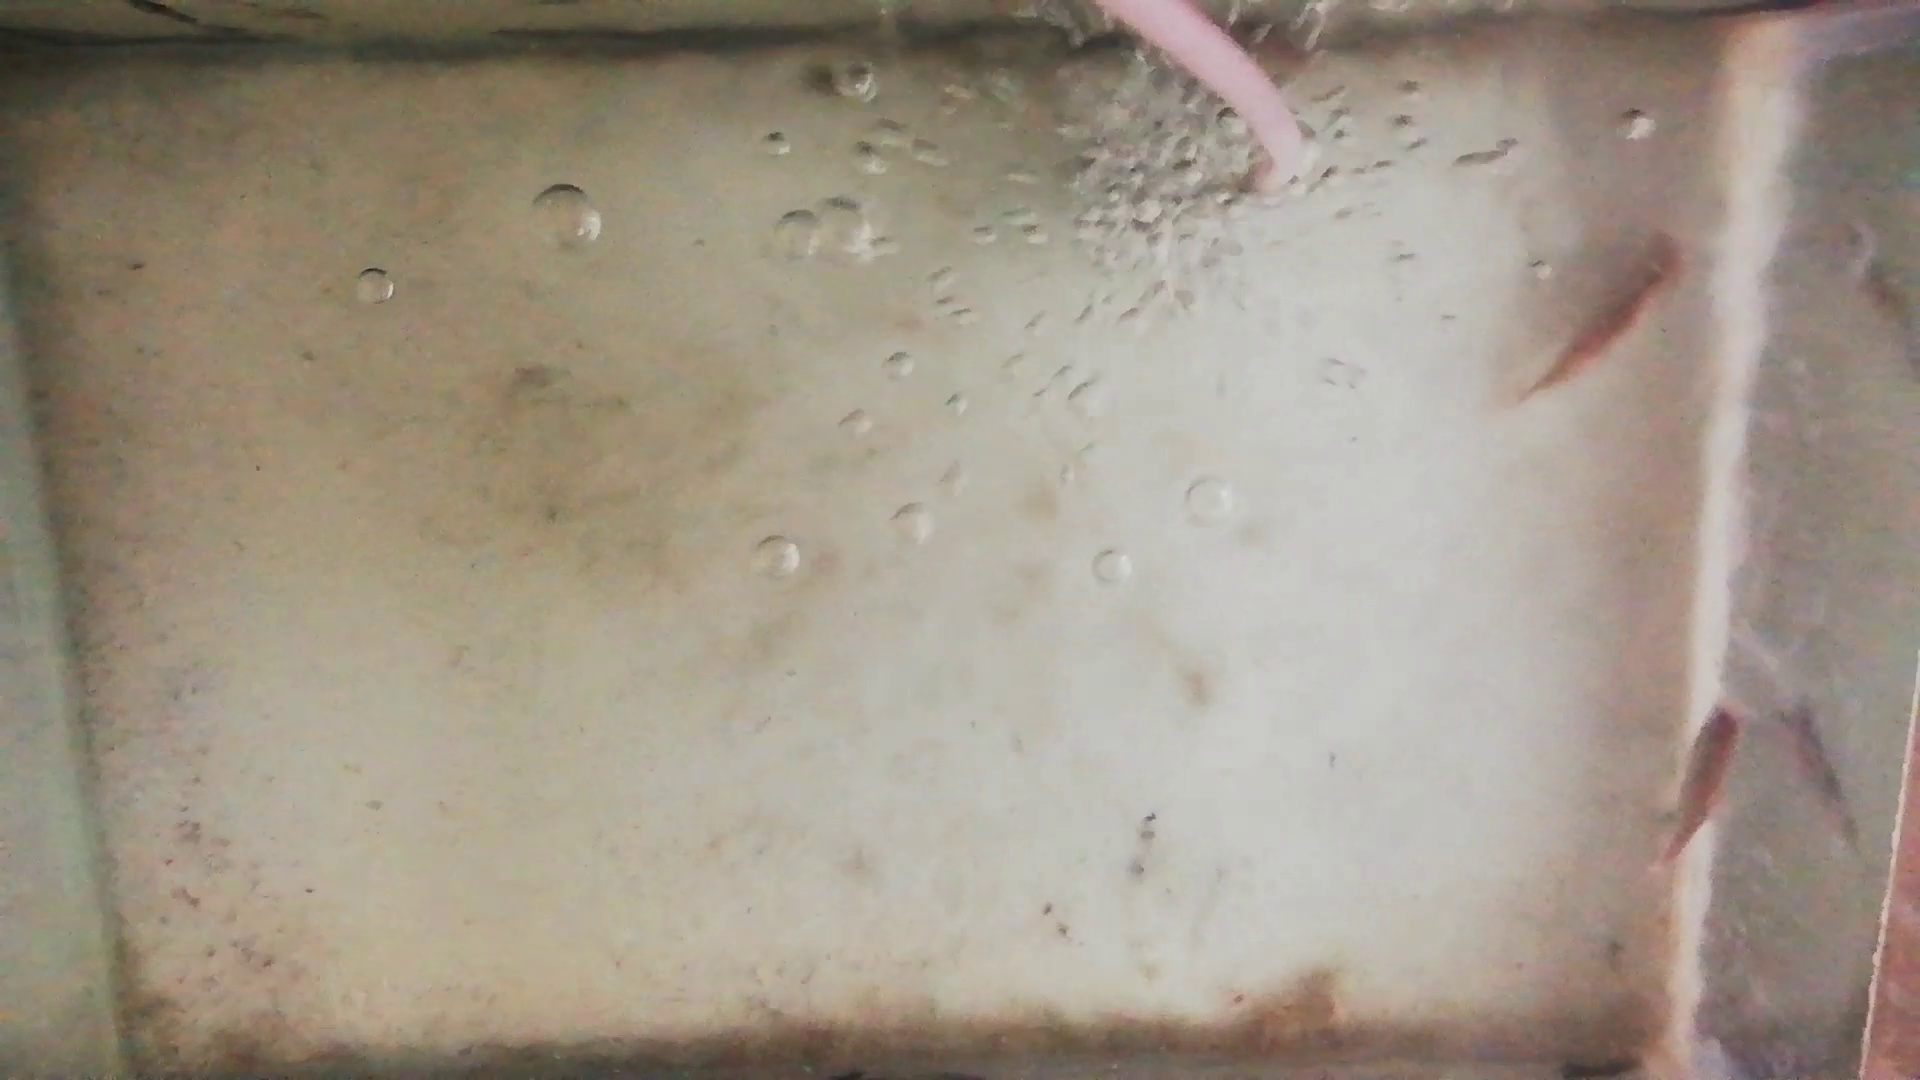fish: (1522, 233, 1684, 401), (1662, 705, 1746, 862)
